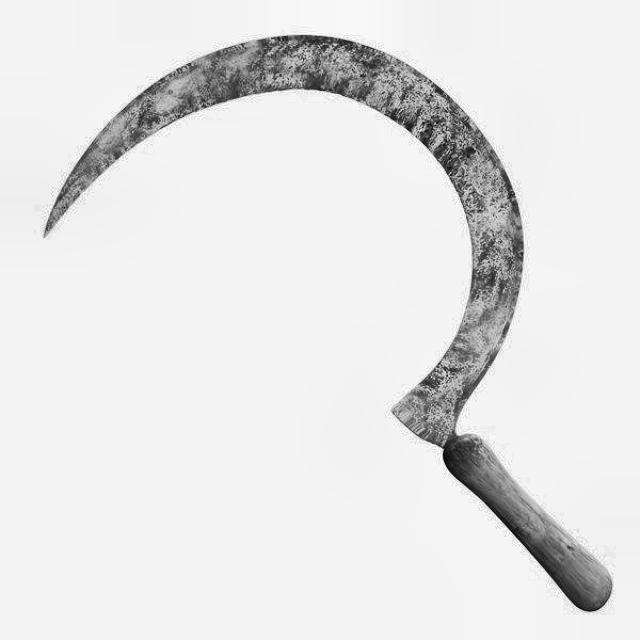celurit: (40, 22, 620, 616)
